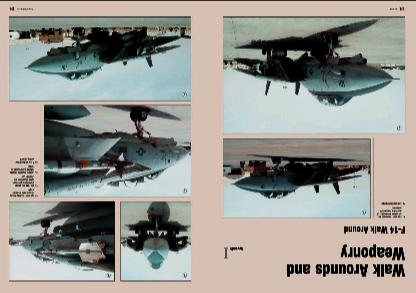EF2000: (45, 105, 191, 197), (232, 33, 400, 106), (24, 26, 182, 80), (21, 204, 115, 274), (231, 157, 363, 199), (121, 215, 191, 268)
